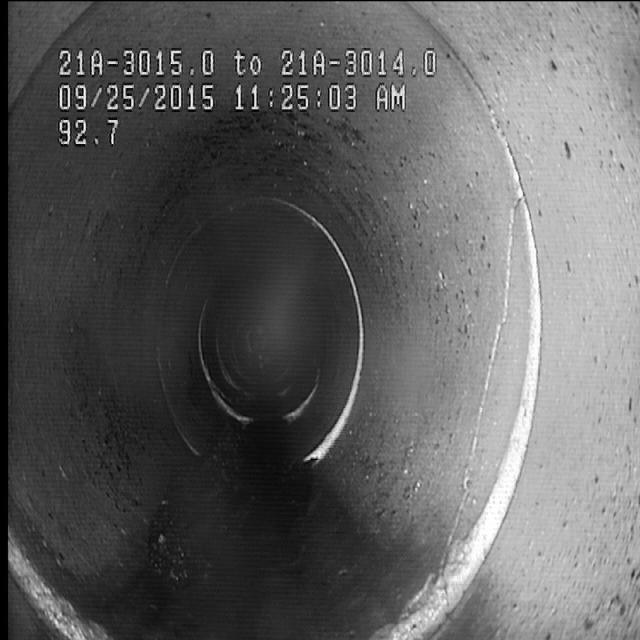Crack: (436, 206, 528, 626)
